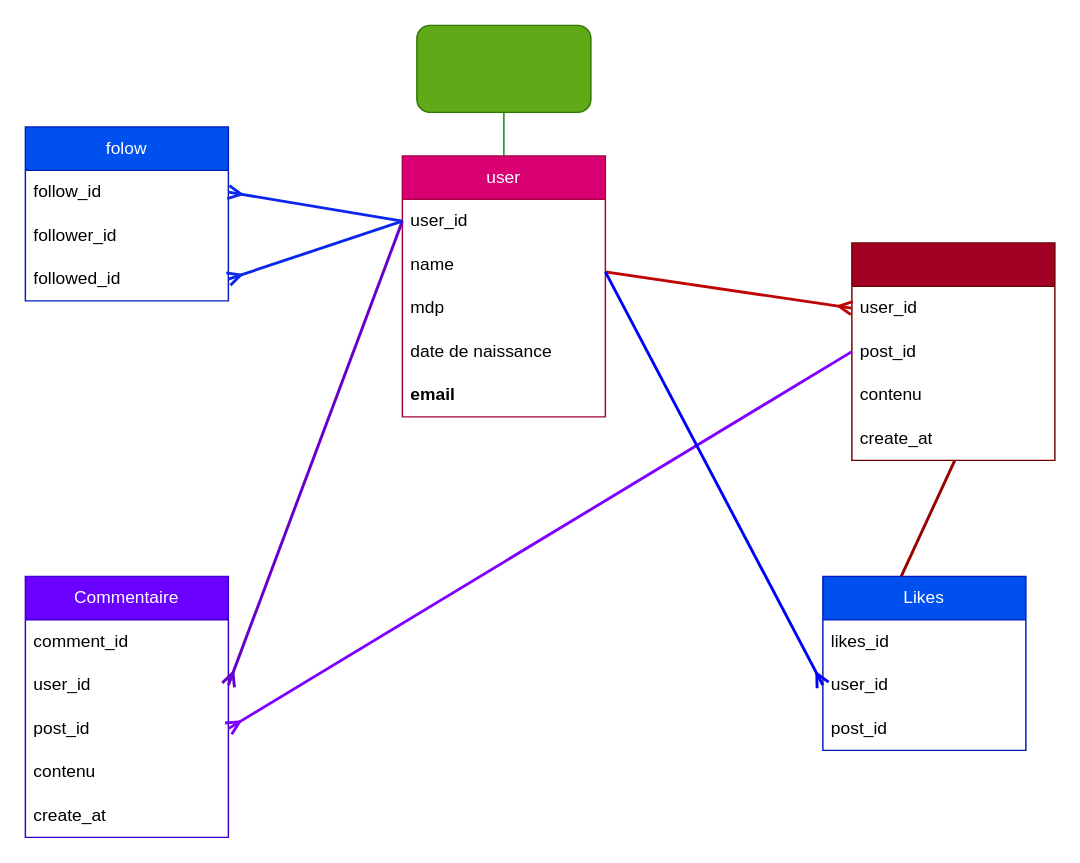
Some shapes in this 1080 by 863 pixel diagram are drawn without their labels. Each missing label, with the box of its shape:
Posts: (850, 241, 1055, 460)
Réseau Social: (415, 24, 591, 112)
